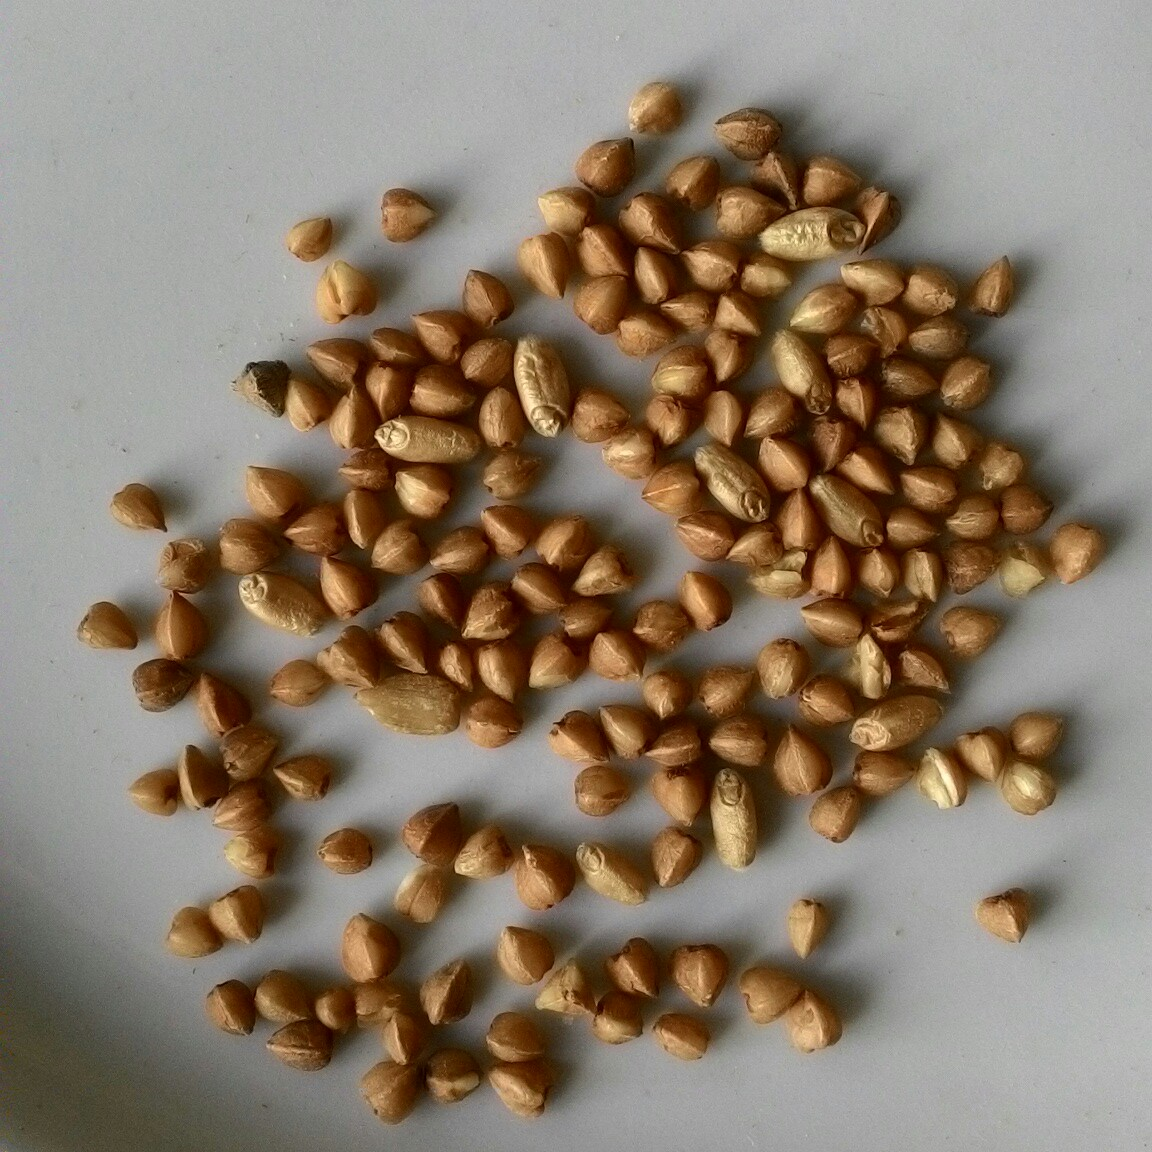semka: (351, 666, 469, 740)
wheat: (688, 436, 773, 532), (748, 200, 872, 263), (800, 469, 888, 556), (510, 329, 573, 444), (373, 405, 482, 471), (233, 565, 329, 636), (842, 691, 940, 757), (770, 323, 836, 422), (567, 836, 650, 910), (709, 765, 763, 873)
